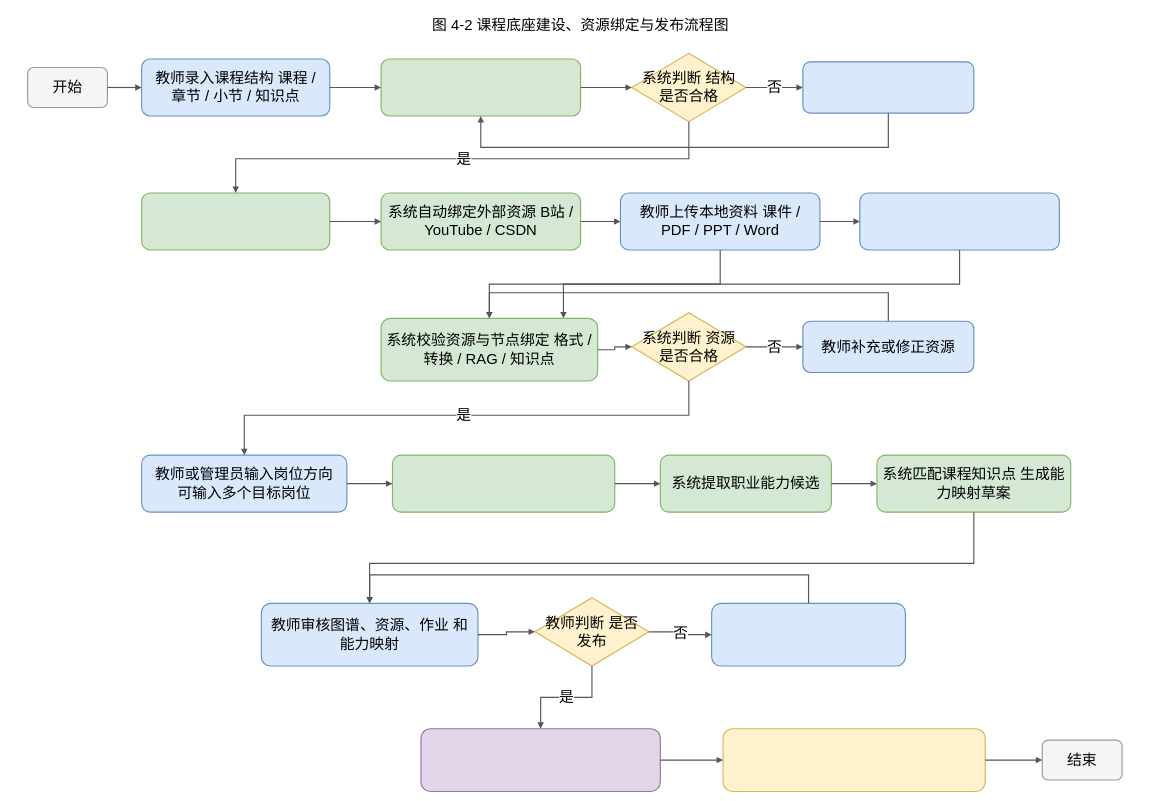
Image size: 1161x801. Some labels were removed from this diagram. Each missing label, with the centre of its shape:
"学生端、诊断智能体、路径模块 和教师看板读取已发布版本" belongs at point 854,760.
"教师修正课程结构" belongs at point 888,87.
"教师创建作业实践任务 绑定课程节点" belongs at point 959,221.
"教师按问题修订 结构 / 资源 / 能力关系" belongs at point 808,634.
"系统发布课程底座 供学生端和下游模块读取" belongs at point 540,760.
"系统扩展检索词并抓取岗位文本 招聘要求 / 技能描述 / 来源证据" belongs at point 503,483.
"系统校验结构信息 完整性 / 层级 / 名称可识别" belongs at point 480,87.
"系统生成课程知识图谱 节点 / 层级 / 前置关系" belongs at point 235,221.
